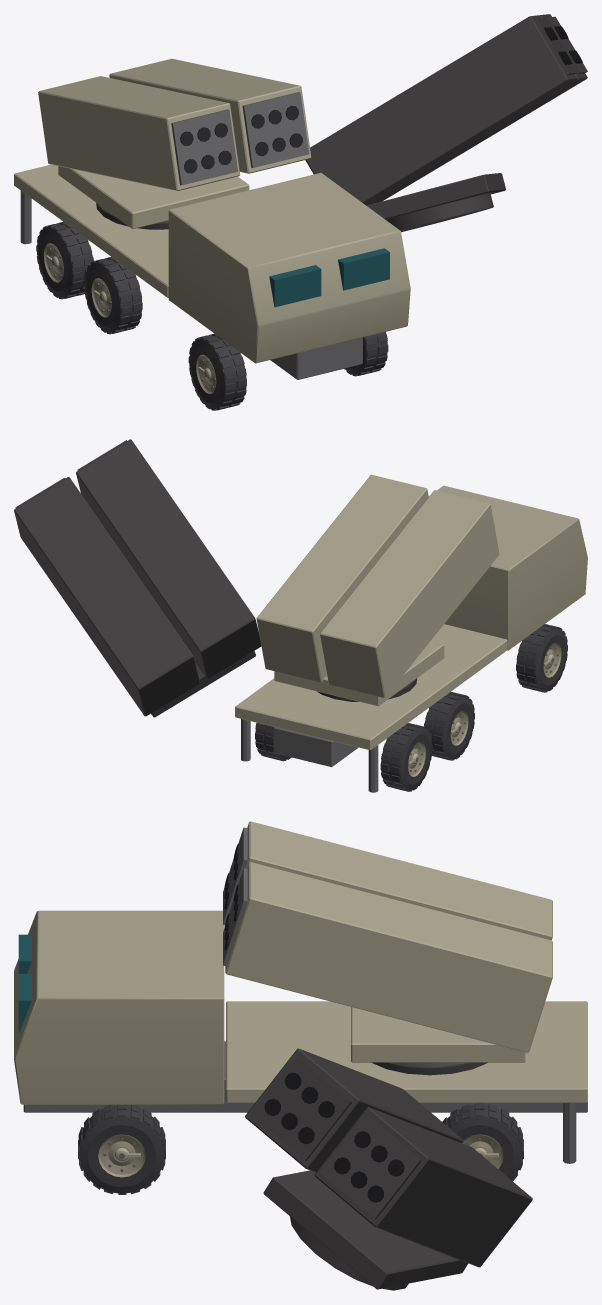
The model's file is himars__fath_360_launcher.glb.
3 views of the same model, one above another, from view 1: azimuth 30°, elevation 25°; view 2: azimuth 150°, elevation 25°; view 3: azimuth 270°, elevation 25° (orthographic). The views are drawn at different scales.
Visible parts, largest first — view 1: Hull_Mesh, Wreck, Gun_Mesh, Turret_Mesh, Wheel_L1_Mesh, Wheel_L2_Mesh, Wheel_L0_Mesh, Wheel_R2_Mesh; view 2: Wreck, Gun_Mesh, Hull_Mesh, Wheel_L0_Mesh, Wheel_L2_Mesh, Wheel_L1_Mesh, Turret_Mesh, Wheel_R0_Mesh; view 3: Hull_Mesh, Gun_Mesh, Wreck, Wheel_R2_Mesh, Turret_Mesh, Wheel_R0_Mesh.
Part boxes in pixels (x1,y1,x2,y2): Hull_Mesh: (14,164,410,379); Wreck: (53,14,587,409); Gun_Mesh: (38,58,311,190); Turret_Mesh: (58,166,249,229); Wheel_L1_Mesh: (84,257,142,334); Wheel_L2_Mesh: (188,333,246,410); Wheel_L0_Mesh: (36,221,93,299); Wheel_R2_Mesh: (344,331,388,376); Wreck: (14,439,549,789); Gun_Mesh: (256,474,499,697); Hull_Mesh: (235,485,587,792); Wheel_L0_Mesh: (380,723,432,791); Wheel_L2_Mesh: (516,624,567,692); Wheel_L1_Mesh: (424,692,474,760); Turret_Mesh: (274,641,444,706); Wheel_R0_Mesh: (255,723,291,761); Hull_Mesh: (14,910,587,1163); Gun_Mesh: (223,821,552,1052); Wreck: (94,1048,532,1290); Wheel_R2_Mesh: (78,1104,165,1194); Turret_Mesh: (351,1007,525,1066); Wheel_R0_Mesh: (442,1103,523,1181).
Size of what is drawn, in the model's own units: 7.98 by 3.84 by 6.9.
